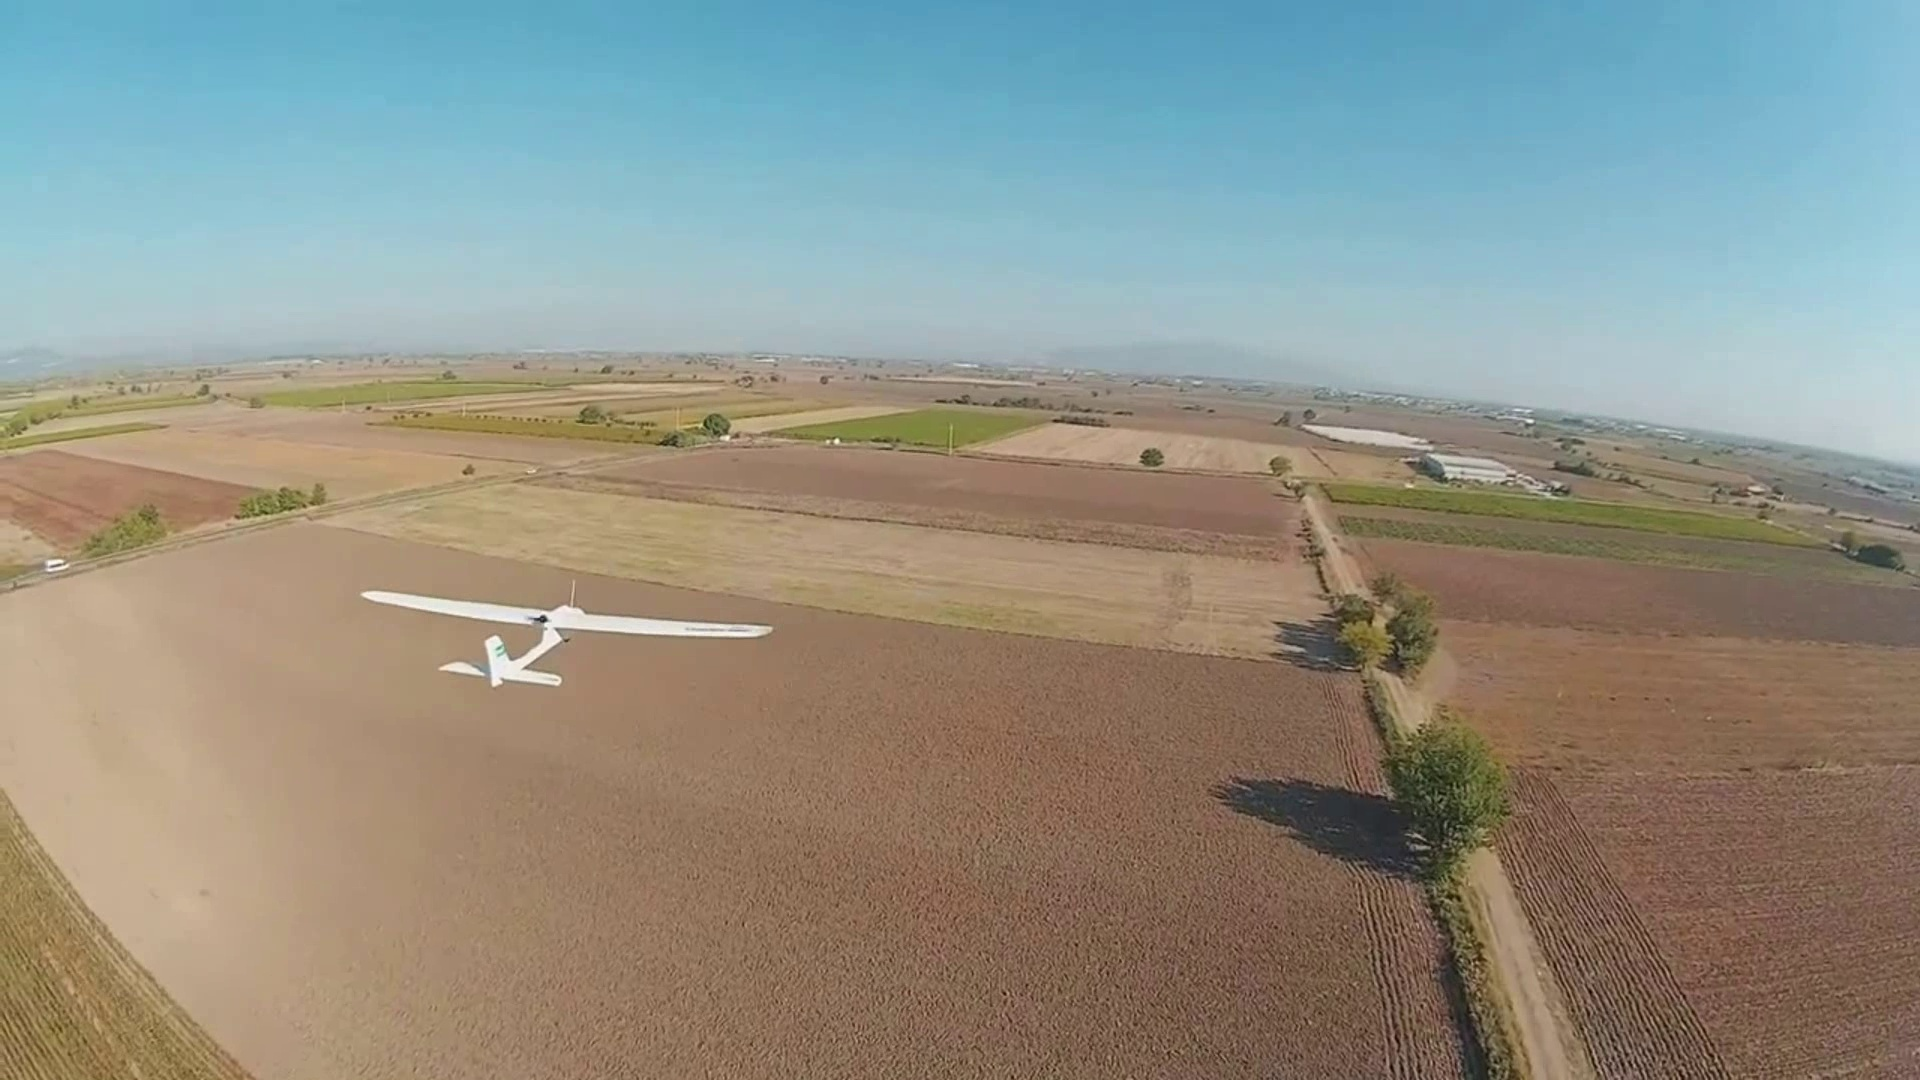airplane: (360, 578, 777, 687)
